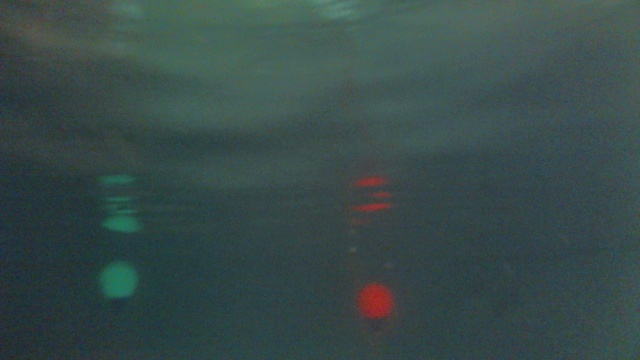buoy_green: (98, 259, 138, 317)
buoy_red: (357, 280, 394, 331)
